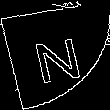N_N: (25, 26, 85, 84)
